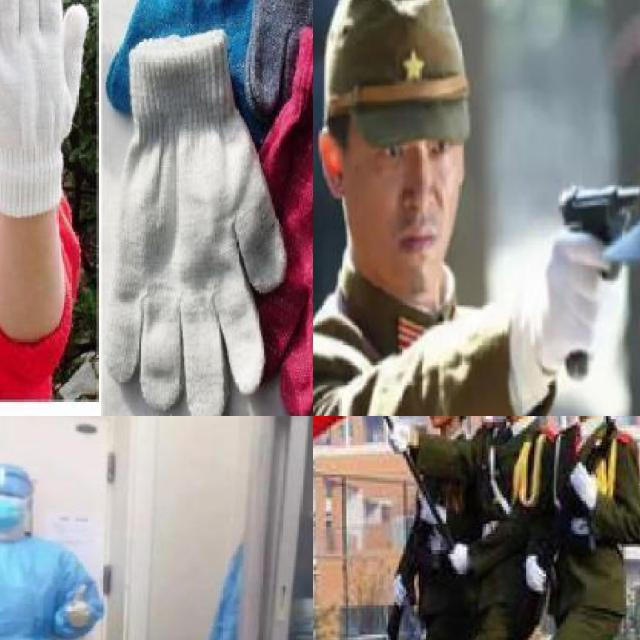No_Ear-Protection: (313, 125, 355, 196)
face_mask: (0, 486, 28, 539)
face_nomask: (348, 102, 468, 284), (420, 416, 455, 431)
hand_glove: (0, 0, 92, 181), (538, 230, 610, 360), (568, 459, 596, 504), (64, 586, 90, 628), (414, 491, 445, 524), (523, 550, 545, 591), (448, 539, 470, 572), (390, 573, 410, 605), (387, 422, 408, 448)
head_nohelmet: (313, 0, 490, 153)
person: (313, 0, 590, 416), (0, 0, 98, 402), (361, 416, 497, 640), (440, 416, 561, 640), (564, 70, 640, 416), (537, 416, 640, 640), (0, 463, 105, 640)
